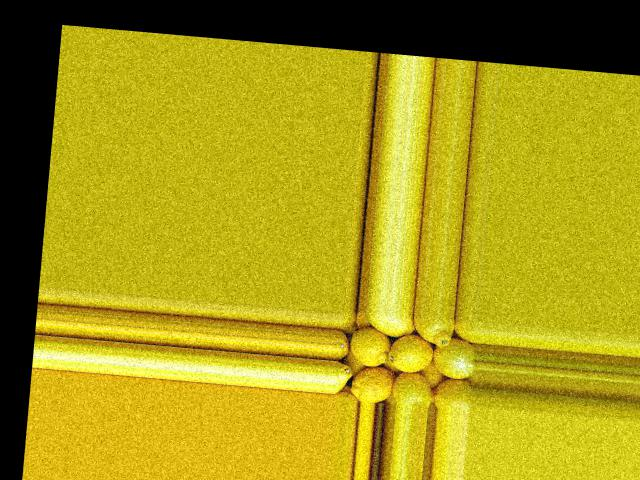lemon: (454, 321, 479, 344)
